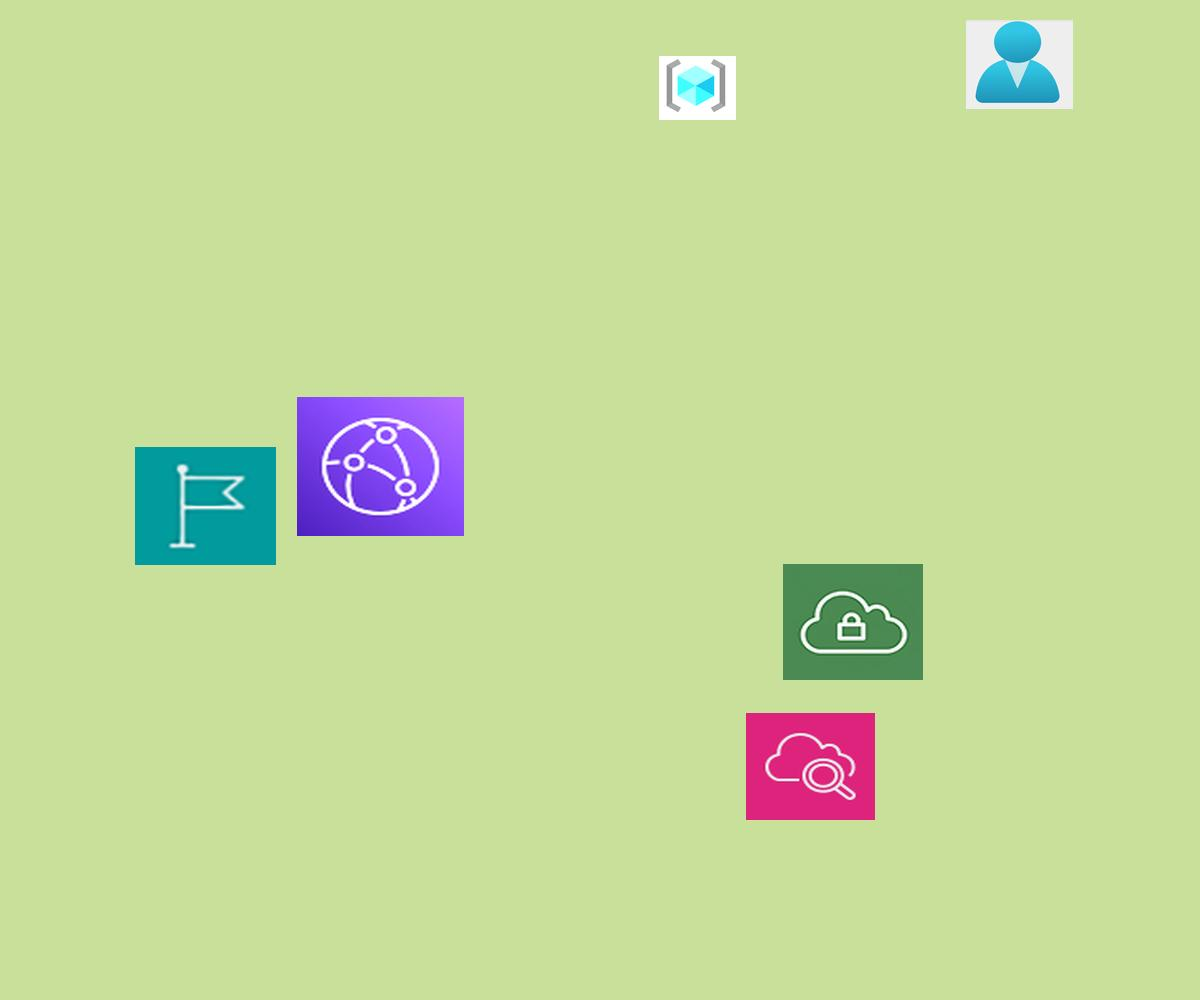AWS-CloudFront: (297, 397, 464, 536)
AWS-CloudWatch: (746, 713, 875, 820)
AWS-Private_vpc: (783, 564, 923, 680)
AWS-Region: (135, 447, 276, 565)
Azure_resource_group: (659, 56, 736, 120)
Azure_users: (966, 20, 1073, 109)
